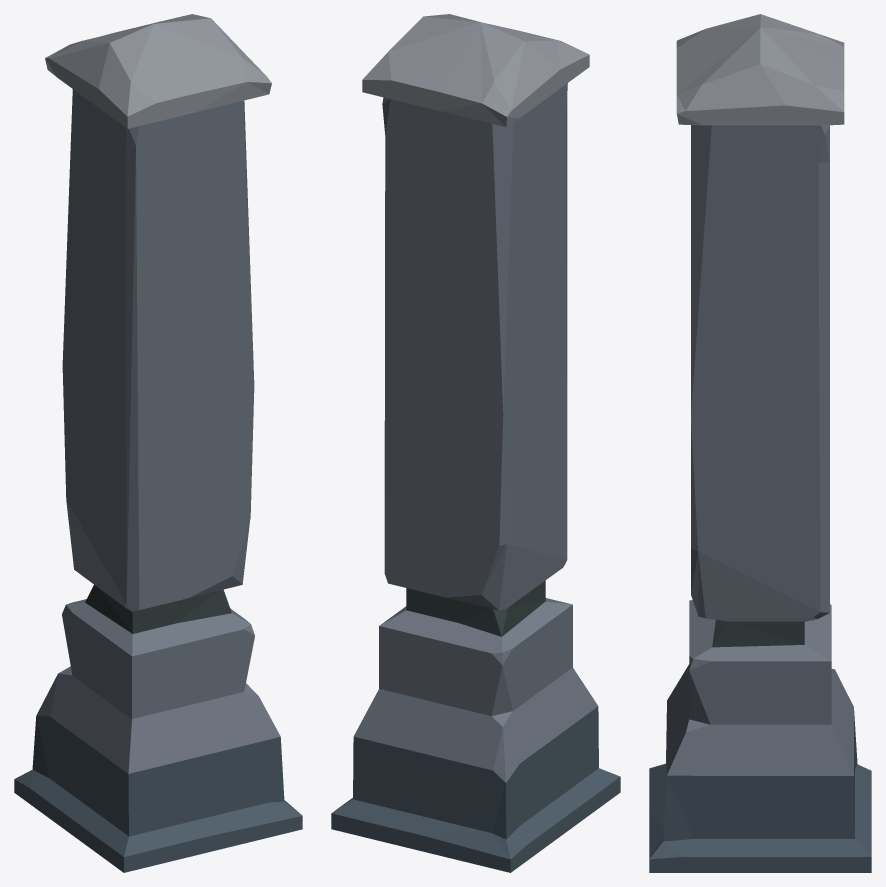
The model's file is Pillar2.fbx.
3 views of the same model, side by side, from view 1: azimuth 30°, elevation 25°; view 2: azimuth 150°, elevation 25°; view 3: azimuth 270°, elevation 25° (orthographic).
Visible parts, largest first — view 1: Pillar2; view 2: Pillar2; view 3: Pillar2.
Boxes of the visible parts, x1,y1,x2,y2 form: Pillar2: (14, 14, 302, 872); Pillar2: (331, 14, 620, 872); Pillar2: (649, 14, 871, 872).
Size of the model in its own units: 113 by 476 by 120.
